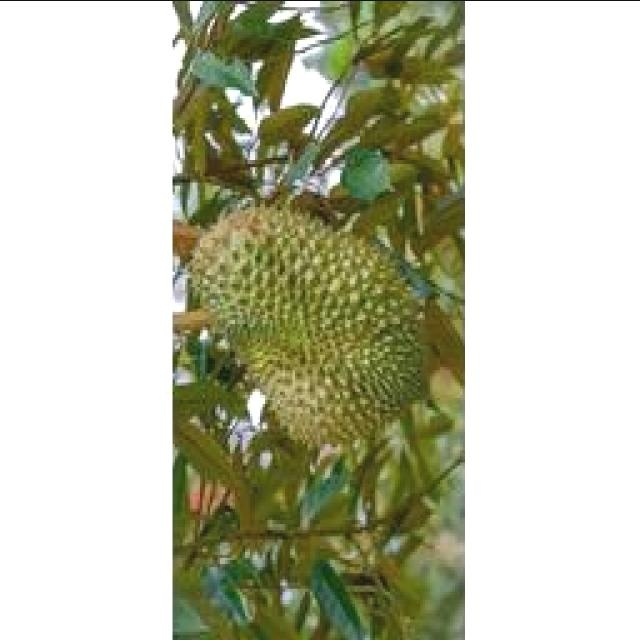agrume: (177, 194, 427, 452)
